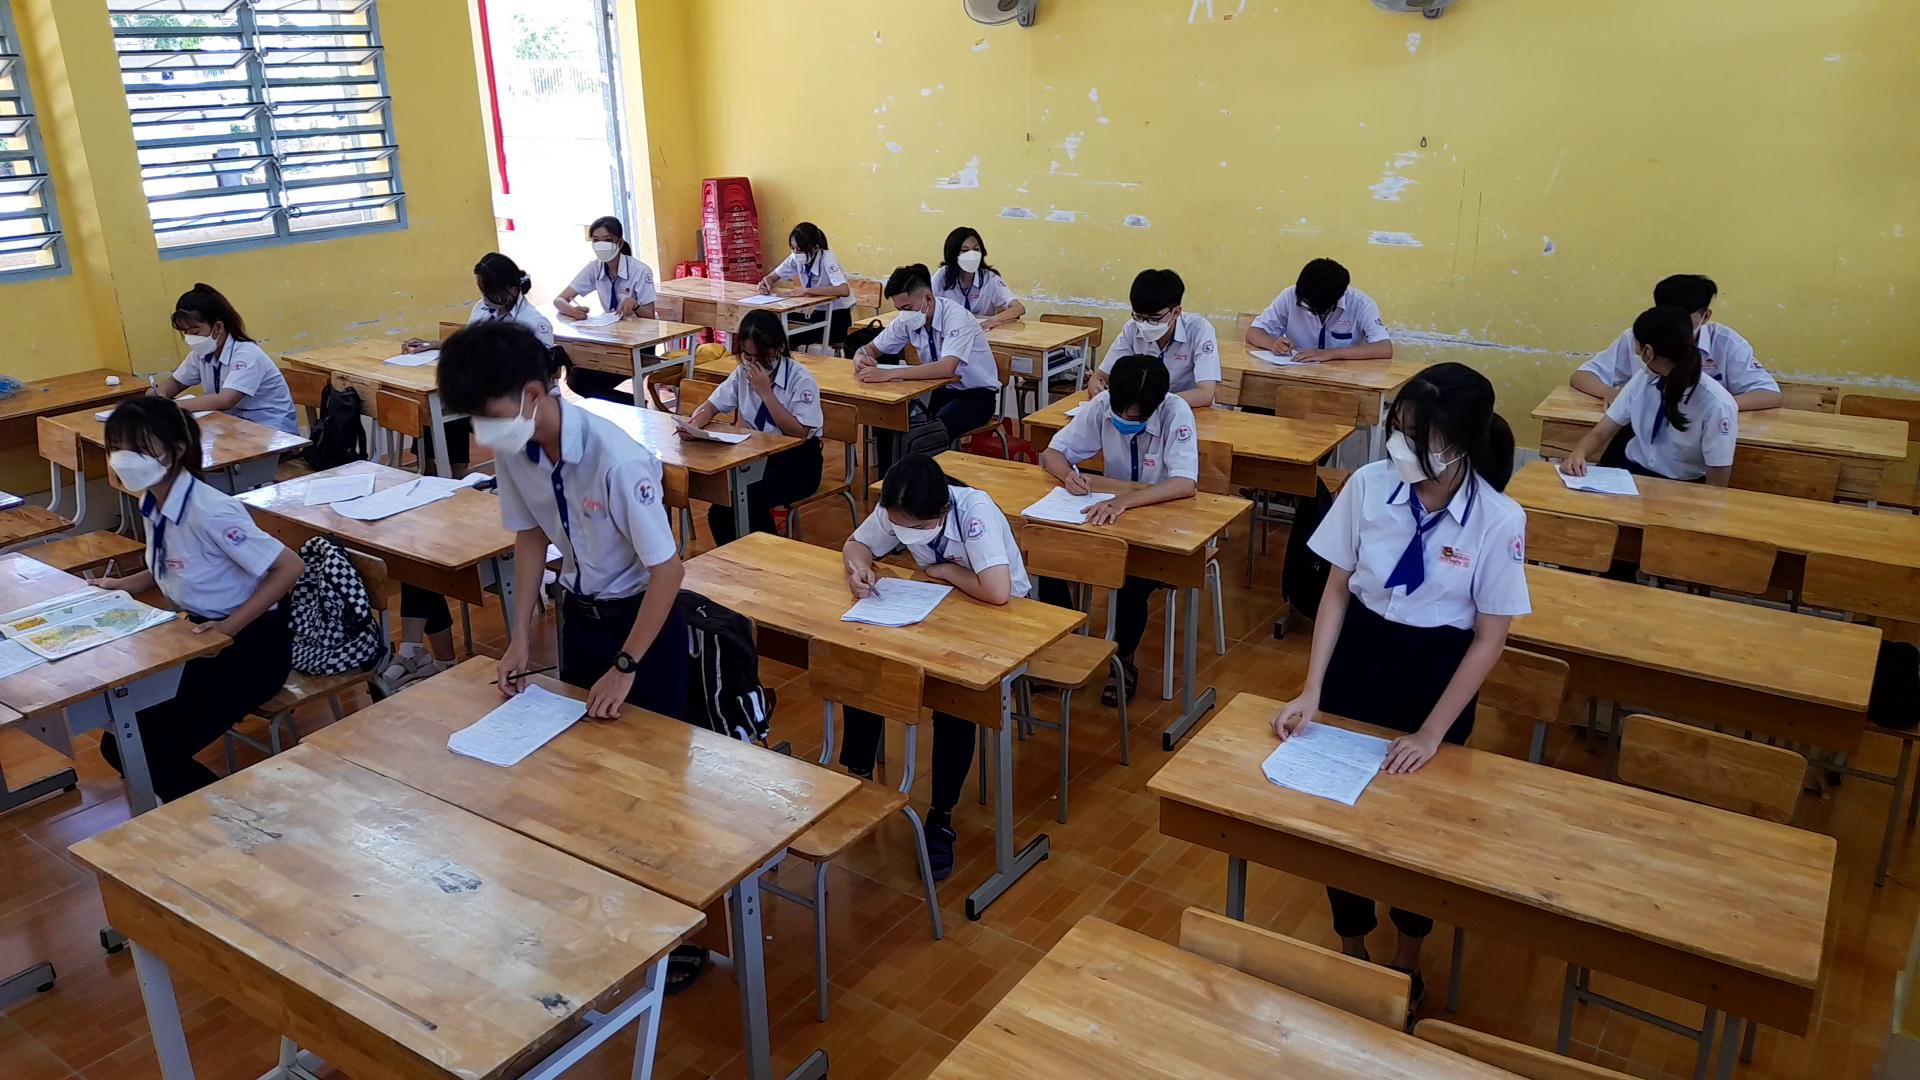Hand Under Table: (1697, 378, 1742, 496)
Look Around: (1615, 301, 1706, 396)
Normal: (79, 382, 305, 617), (828, 446, 1031, 607), (1034, 349, 1205, 526), (1226, 240, 1396, 372), (156, 282, 301, 426), (539, 203, 659, 320), (744, 212, 861, 306)
Stand Up: (1263, 352, 1535, 785), (426, 316, 680, 721)
